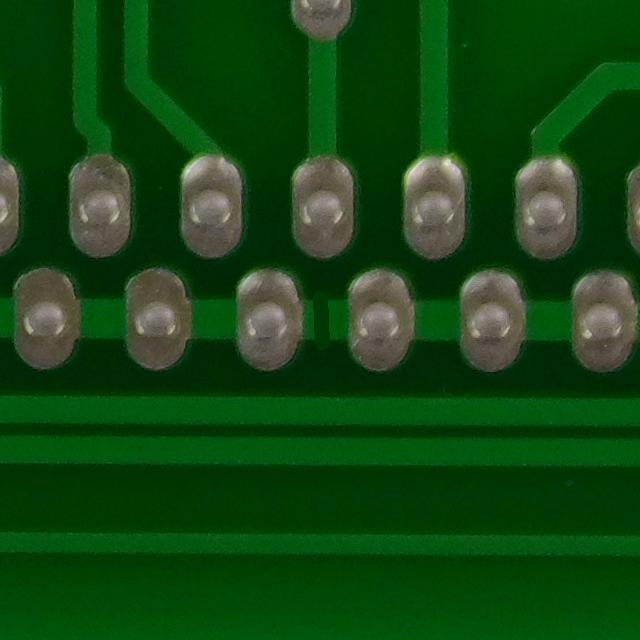open_circuit: (290, 280, 351, 360)
